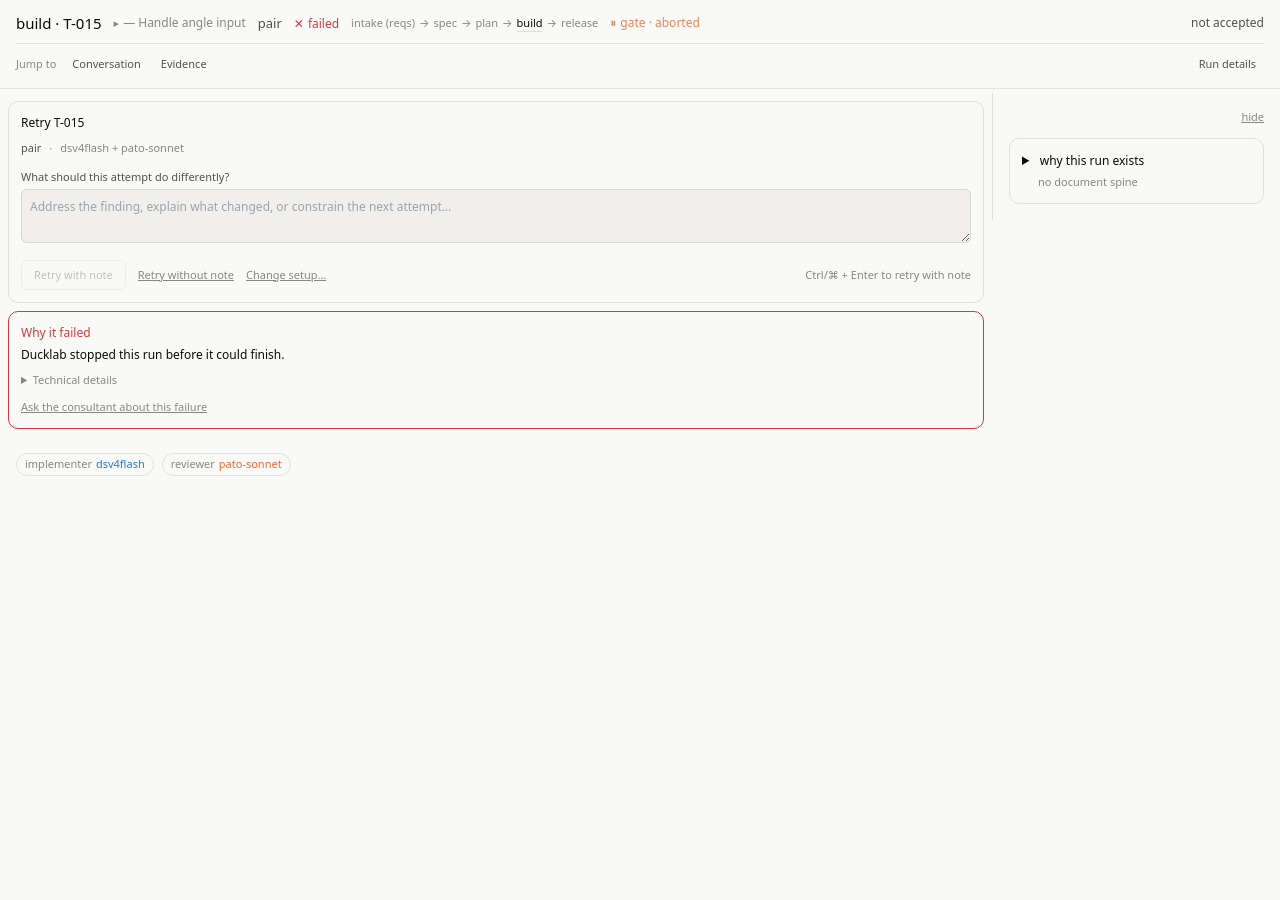
Test: relaunching from the run view › relaunches a pair recorded without an advisor with the reviewer still a reviewer
Step 1. Click the button with test id "rerun-without-note" → click(186, 275), box [138,266,234,283]
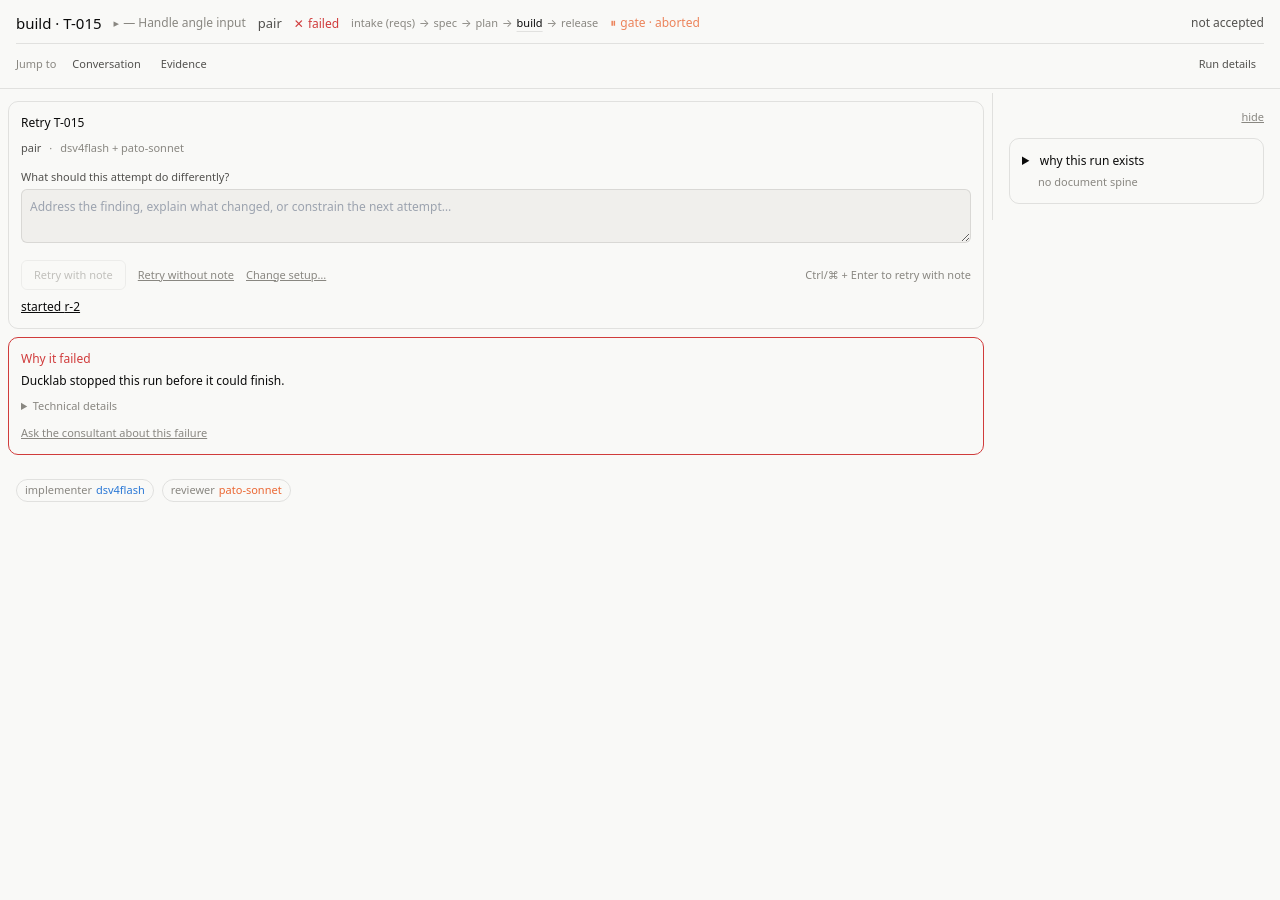
Step 2. Click the button with test id "rerun-setup-toggle" → click(286, 275), box [246,266,326,283]
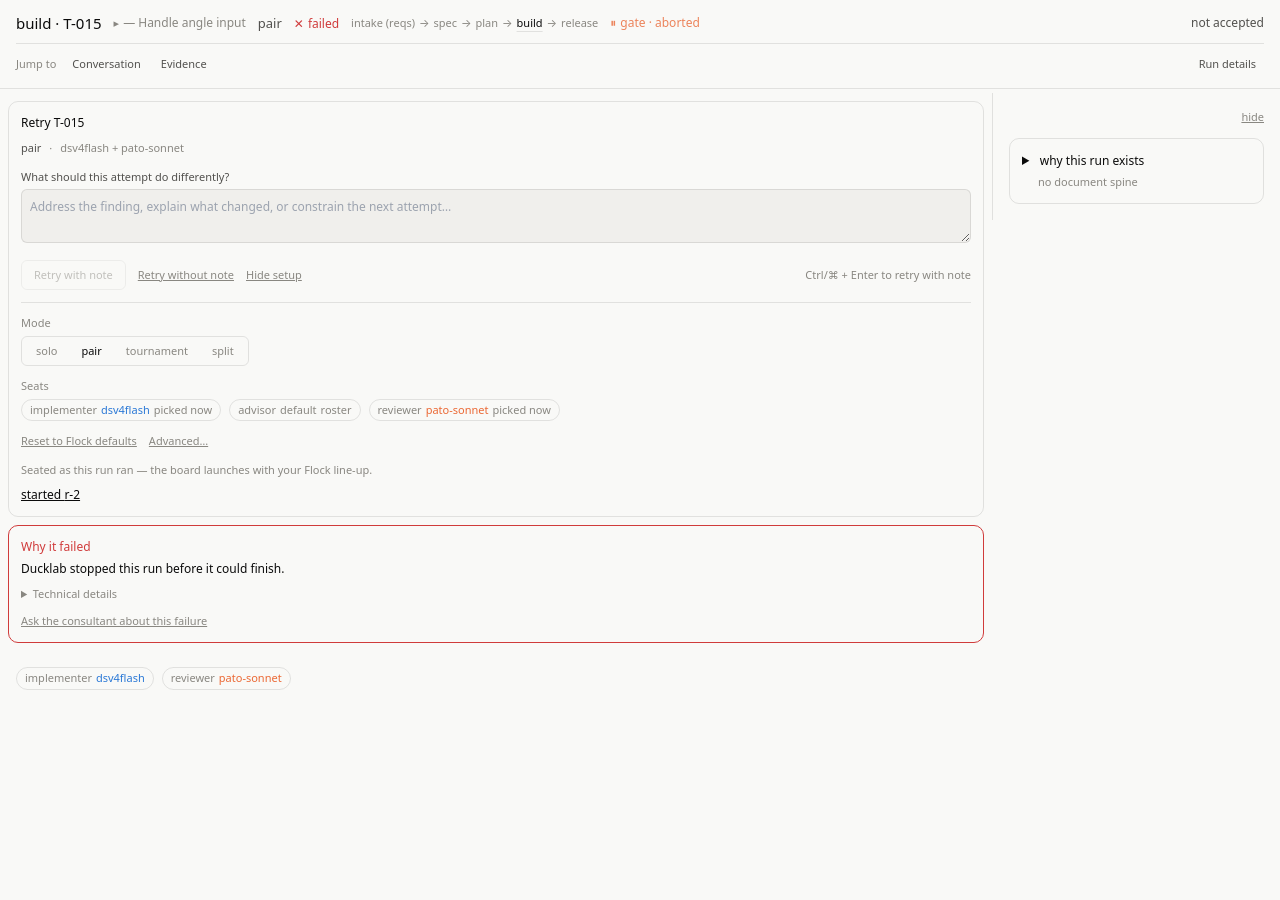
Check: the text with test id "relaunch-provenance" shows "Seated as this run ran", box [21,462,372,476]
